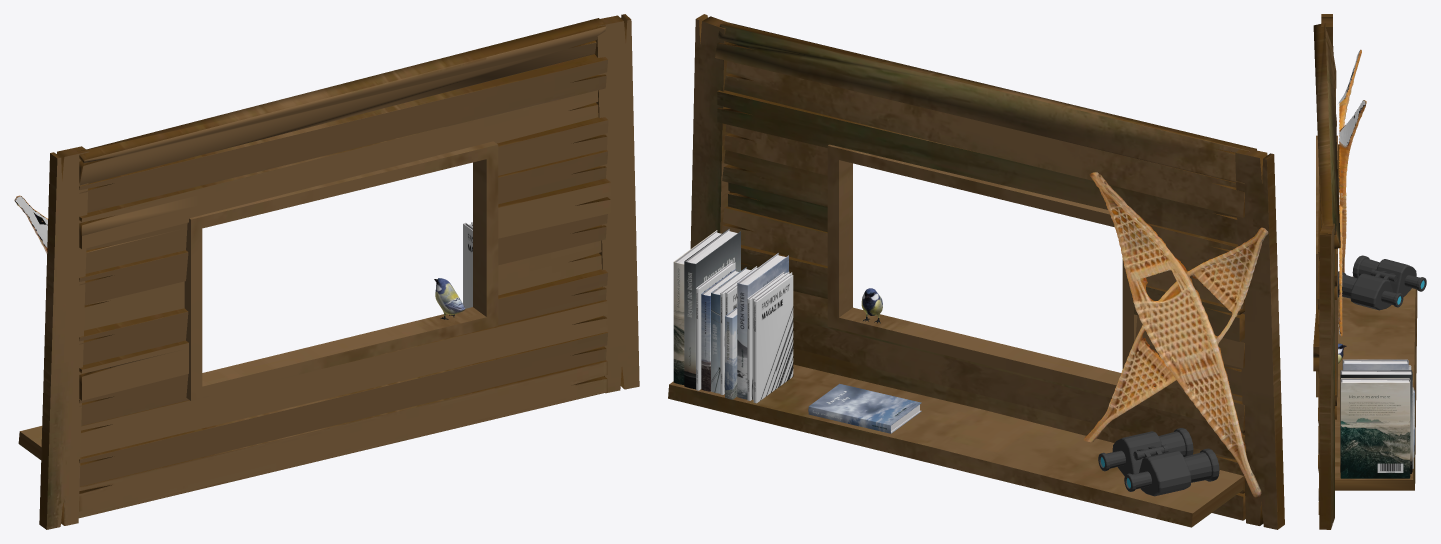
Rendered from winter-window-v2.glb.
3 renders of one model, left to right at view 1: azimuth 30°, elevation 25°; view 2: azimuth 150°, elevation 25°; view 3: azimuth 270°, elevation 25°, orthographic. The views are drawn at different scales.
Visible parts, largest first — view 1: defaultMaterial.003, Magazine 06, body2; view 2: defaultMaterial.003, Object_2, Low Poly Cartoon Binoculars, Magazine 06, Book 01, Book 03, Book 02, Book 07, Magazine 01, Book 05, Book 04, Book 06 (+1 smaller); view 3: defaultMaterial.003, Book 01, Low Poly Cartoon Binoculars, Object_2, Book 02, Book 07, Magazine 01.
Part boxes in pixels (<box>): defaultMaterial.003: <box>18,14,639,529</box>; Magazine 06: <box>463,222,472,308</box>; body2: <box>435,278,465,315</box>; defaultMaterial.003: <box>668,14,1284,529</box>; Object_2: <box>1083,172,1268,498</box>; Low Poly Cartoon Binoculars: <box>863,293,1219,496</box>; Magazine 06: <box>753,274,793,403</box>; Book 01: <box>673,229,921,432</box>; Book 03: <box>808,383,921,433</box>; Book 02: <box>684,228,740,389</box>; Book 07: <box>737,253,788,399</box>; Magazine 01: <box>696,261,790,390</box>; Book 05: <box>725,307,737,399</box>; Book 04: <box>711,267,746,393</box>; Book 06: <box>701,269,735,391</box>; defaultMaterial.003: <box>1313,14,1417,529</box>; Book 01: <box>1340,360,1414,478</box>; Low Poly Cartoon Binoculars: <box>1338,255,1426,348</box>; Object_2: <box>1338,49,1366,336</box>; Book 02: <box>1340,370,1412,473</box>; Book 07: <box>1342,359,1408,370</box>; Magazine 01: <box>1412,387,1413,468</box>.
Bounding box in the file's own units: 1.19 × 0.704 × 0.2468.
23 materials, 23 textured.
